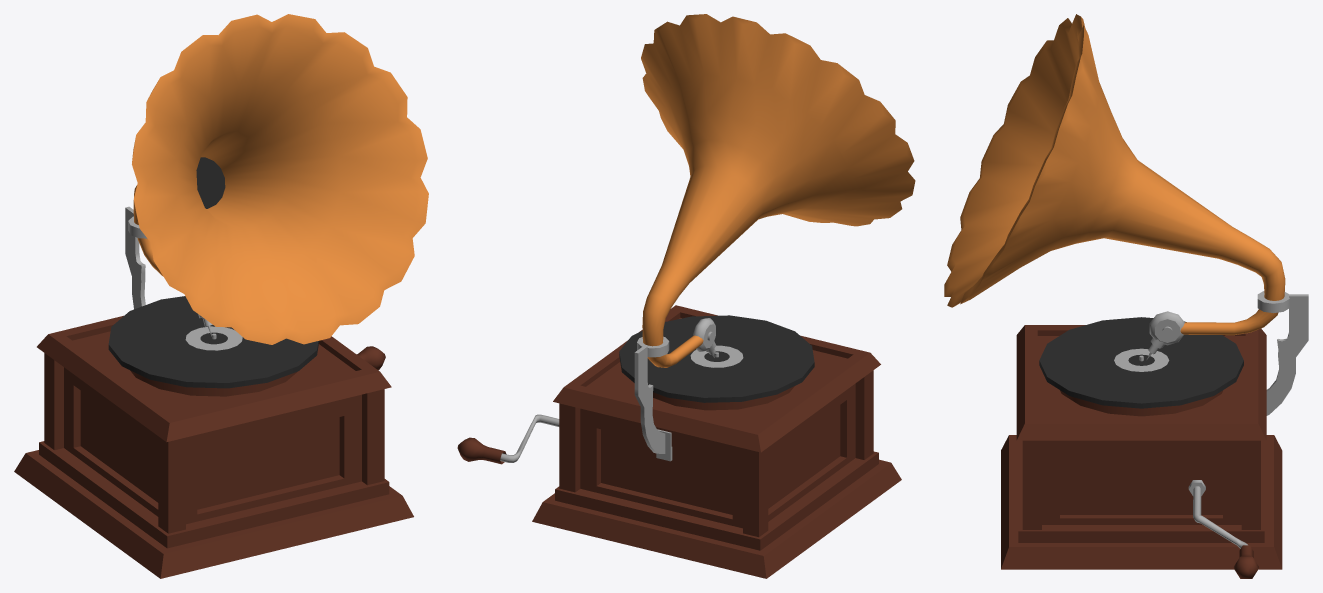
The model's file is Phonograph_01.fbx.
3 renders of one model, left to right at view 1: azimuth 30°, elevation 25°; view 2: azimuth 150°, elevation 25°; view 3: azimuth 270°, elevation 25°, orthographic. The views are drawn at different scales.
Visible parts, largest first — view 1: Phonograph_01; view 2: Phonograph_01; view 3: Phonograph_01.
Part boxes in pixels (x1,y1,x2,y2): Phonograph_01: (14, 14, 428, 578); Phonograph_01: (457, 14, 915, 578); Phonograph_01: (944, 14, 1308, 578).
Bounding box in the file's own units: 0.5957 × 0.7703 × 0.5313.
